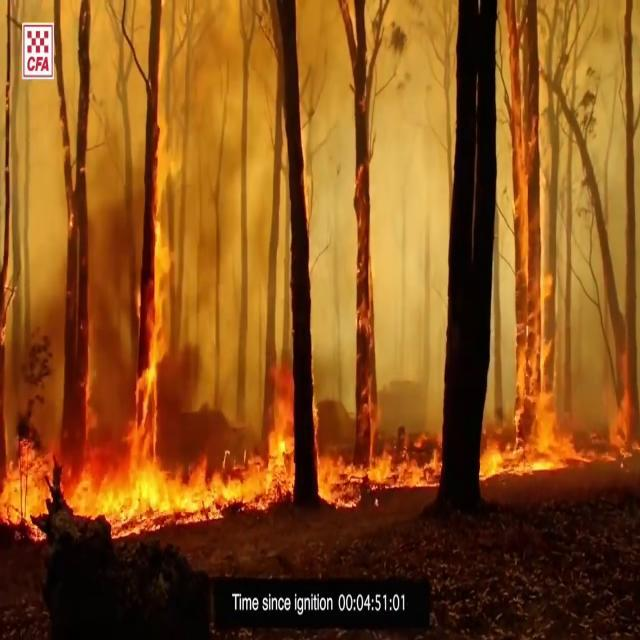Fire: (477, 0, 639, 476), (1, 358, 432, 523), (140, 0, 180, 350)
Smoke: (1, 0, 304, 354)
